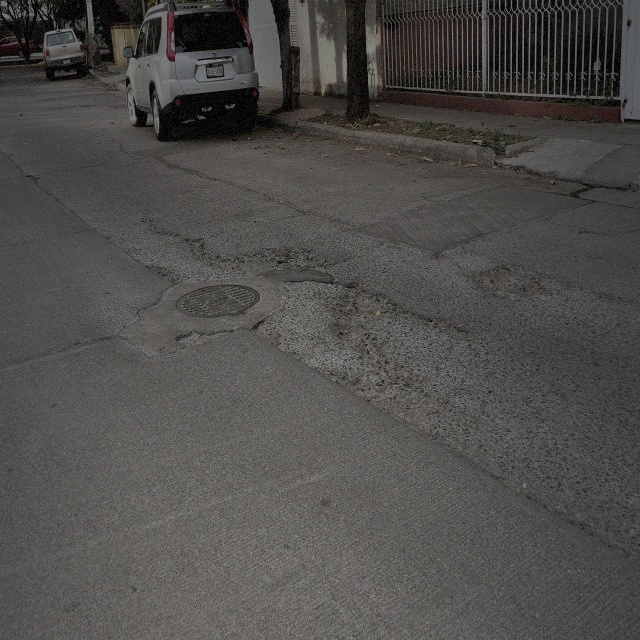pothole: (470, 260, 550, 310), (331, 282, 374, 356), (175, 326, 232, 347)
